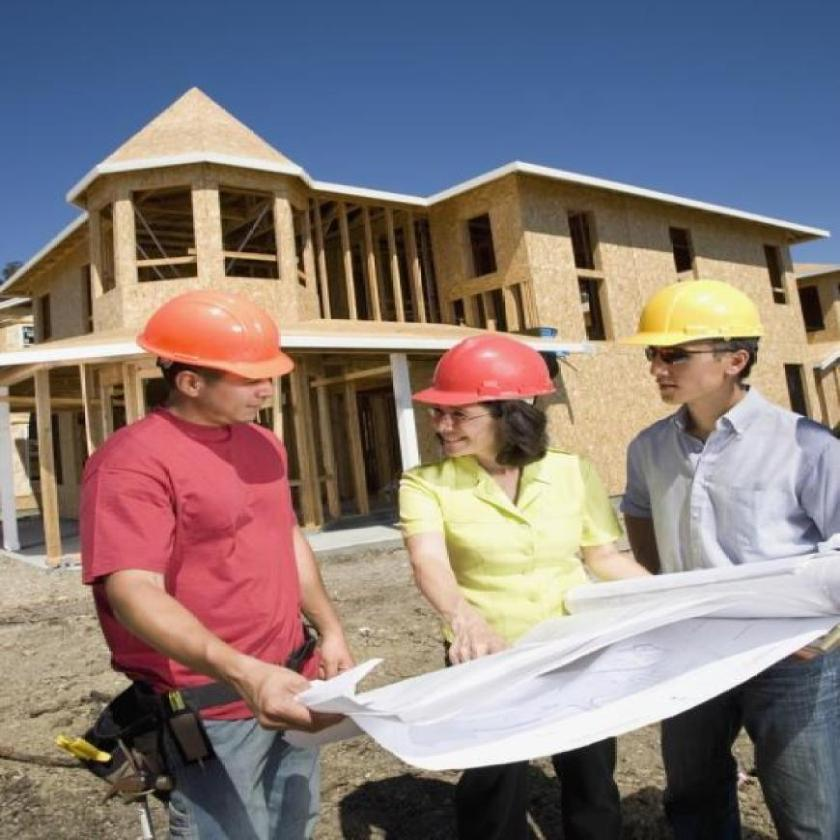Con_casco: (130, 287, 297, 450), (616, 261, 771, 431), (417, 328, 559, 483)
